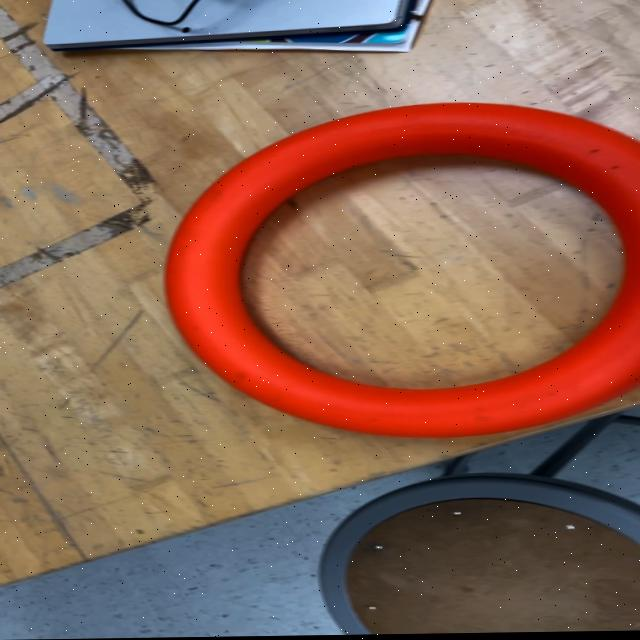note: (162, 99, 640, 442)
